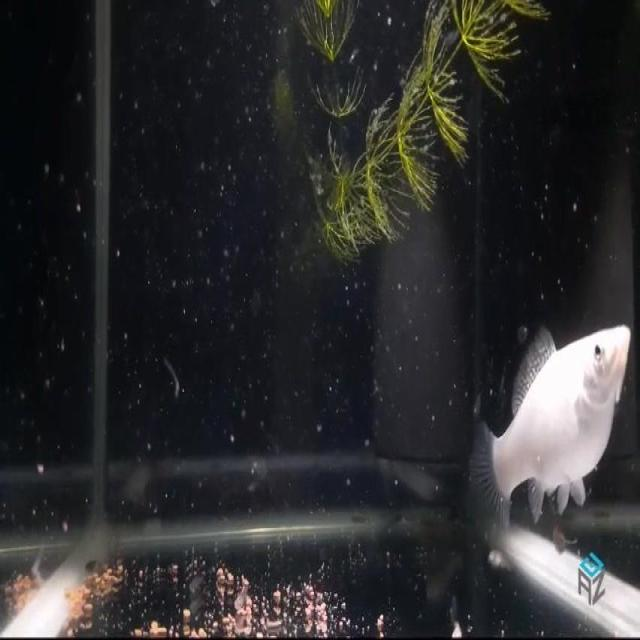PlatyFish: (463, 303, 634, 554)
